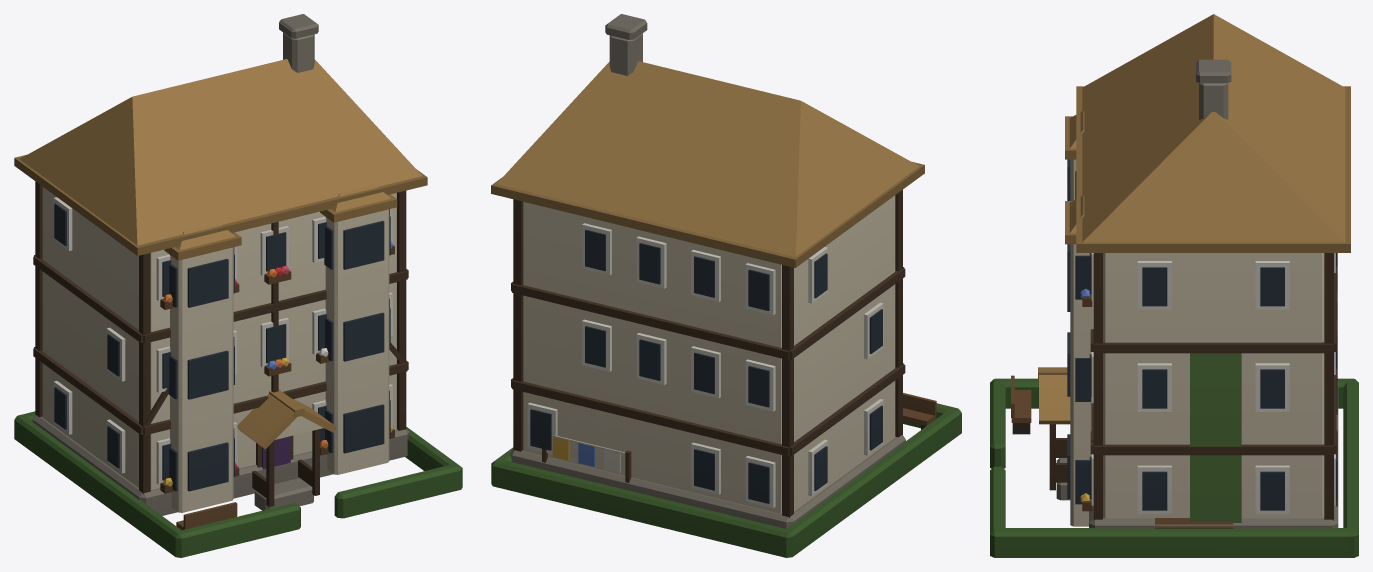
The model's file is flats.glb.
3 renders of one model, left to right at view 1: azimuth 30°, elevation 25°; view 2: azimuth 150°, elevation 25°; view 3: azimuth 270°, elevation 25°, orthographic. The views are drawn at different scales.
Visible parts, largest first — view 1: flats_model; view 2: flats_model; view 3: flats_model.
Boxes of the visible parts, bbox=[...] form: flats_model: bbox=[14, 14, 462, 557]; flats_model: bbox=[491, 14, 961, 557]; flats_model: bbox=[990, 14, 1358, 557].
Bounding box in the file's own units: 0.9502 × 1.3 × 0.94.
